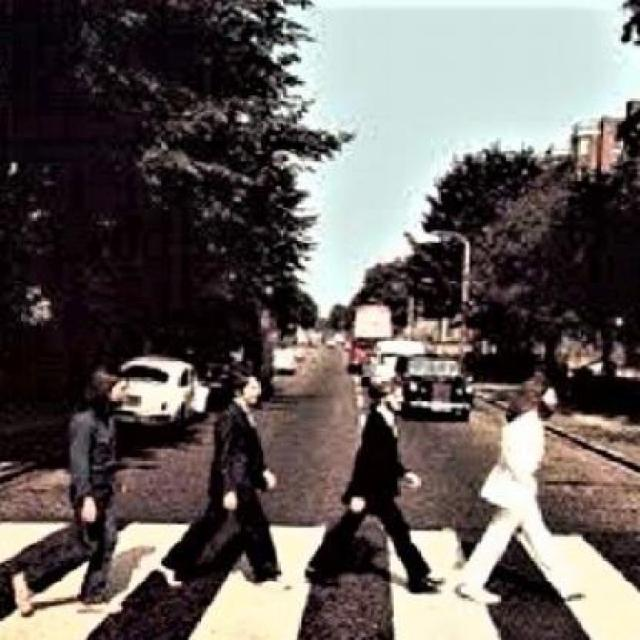Person: (308, 369, 450, 594), (455, 371, 588, 603), (155, 367, 291, 593), (14, 360, 129, 625)
